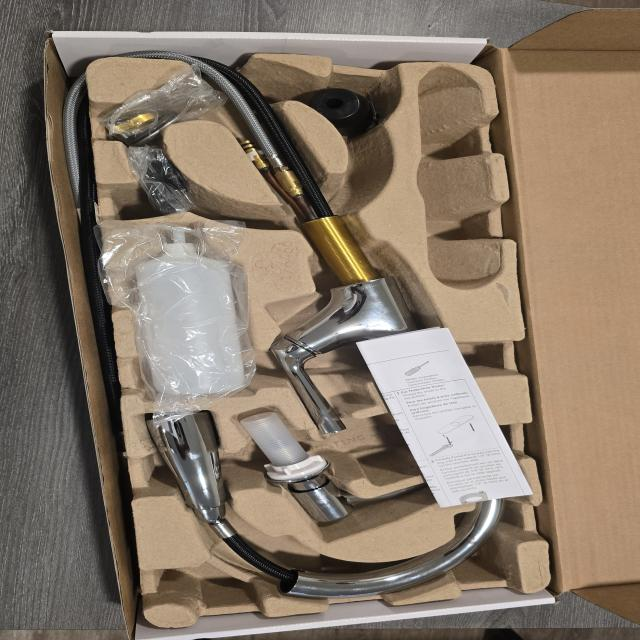1o: (145, 67, 506, 598)
2: (242, 412, 426, 526)
3: (133, 226, 248, 394)
4: (417, 66, 499, 289)
5: (305, 87, 385, 135)
6: (100, 72, 227, 140)
7: (129, 148, 197, 212)
8: (356, 327, 533, 509)
